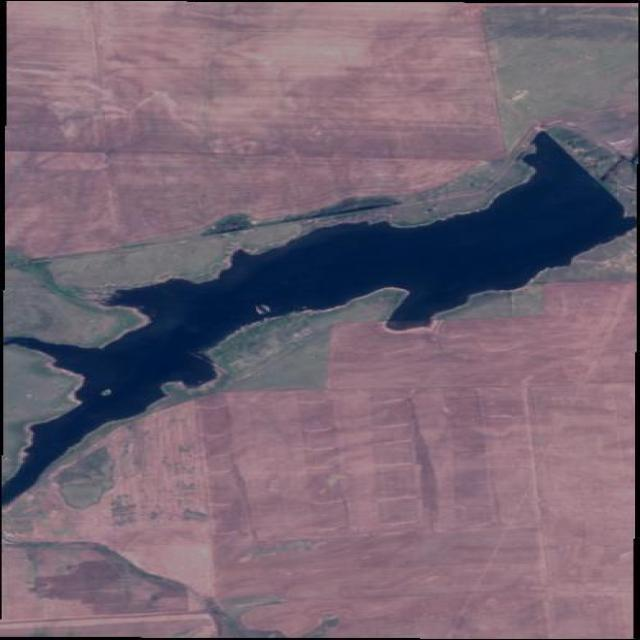argiculture: (5, 249, 633, 636), (7, 3, 514, 259), (512, 30, 635, 113)
water: (3, 133, 635, 504)
